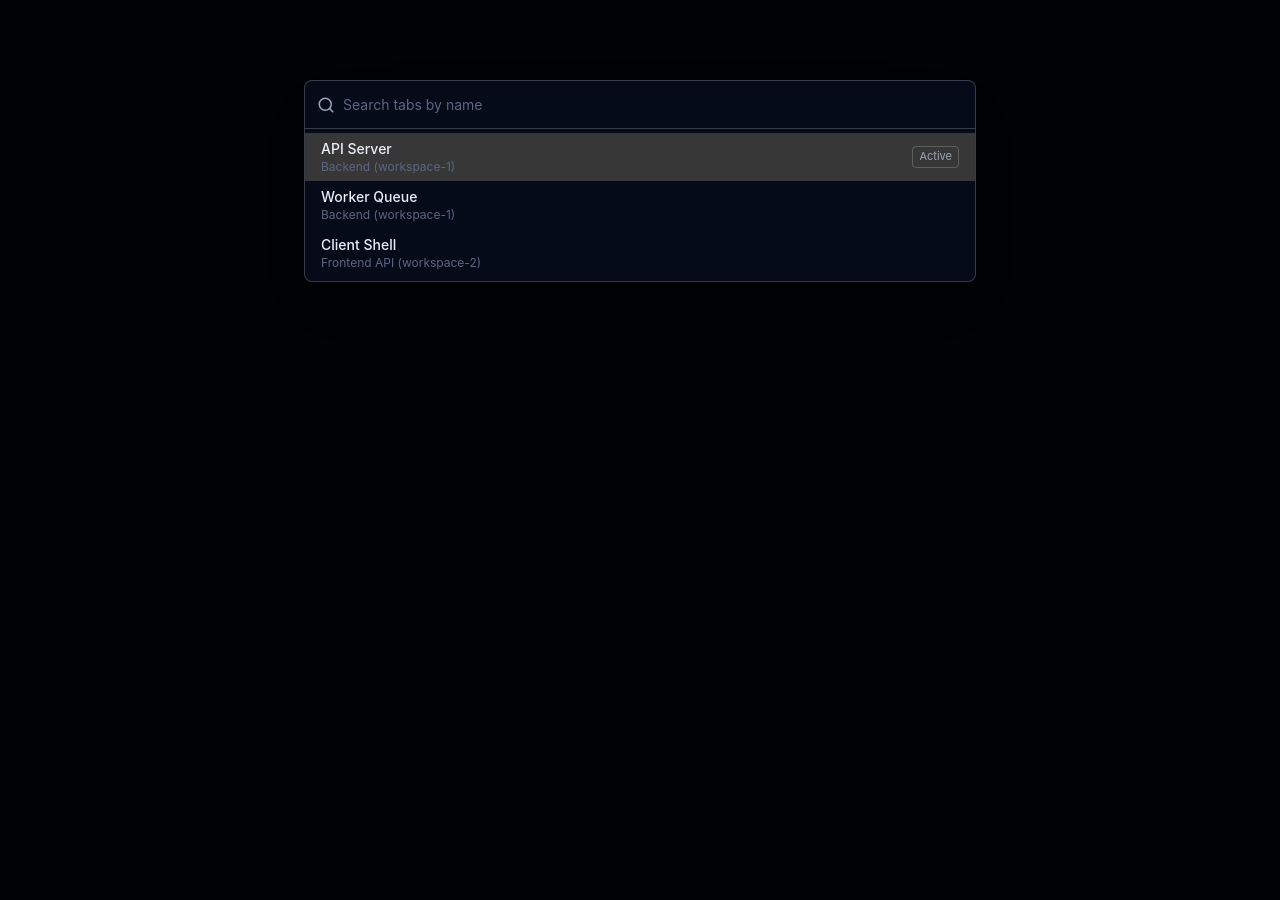
Test: TabSearchPalette › renders all workspace tabs and filters by tab name
The width and height of the screenshot is (1280, 900).
the user searches for a tab-name fragment.
Type "api" into the dropdown named "Search tabs by tab name".
click(653, 104); type("api")  # box [343,94,963,114]
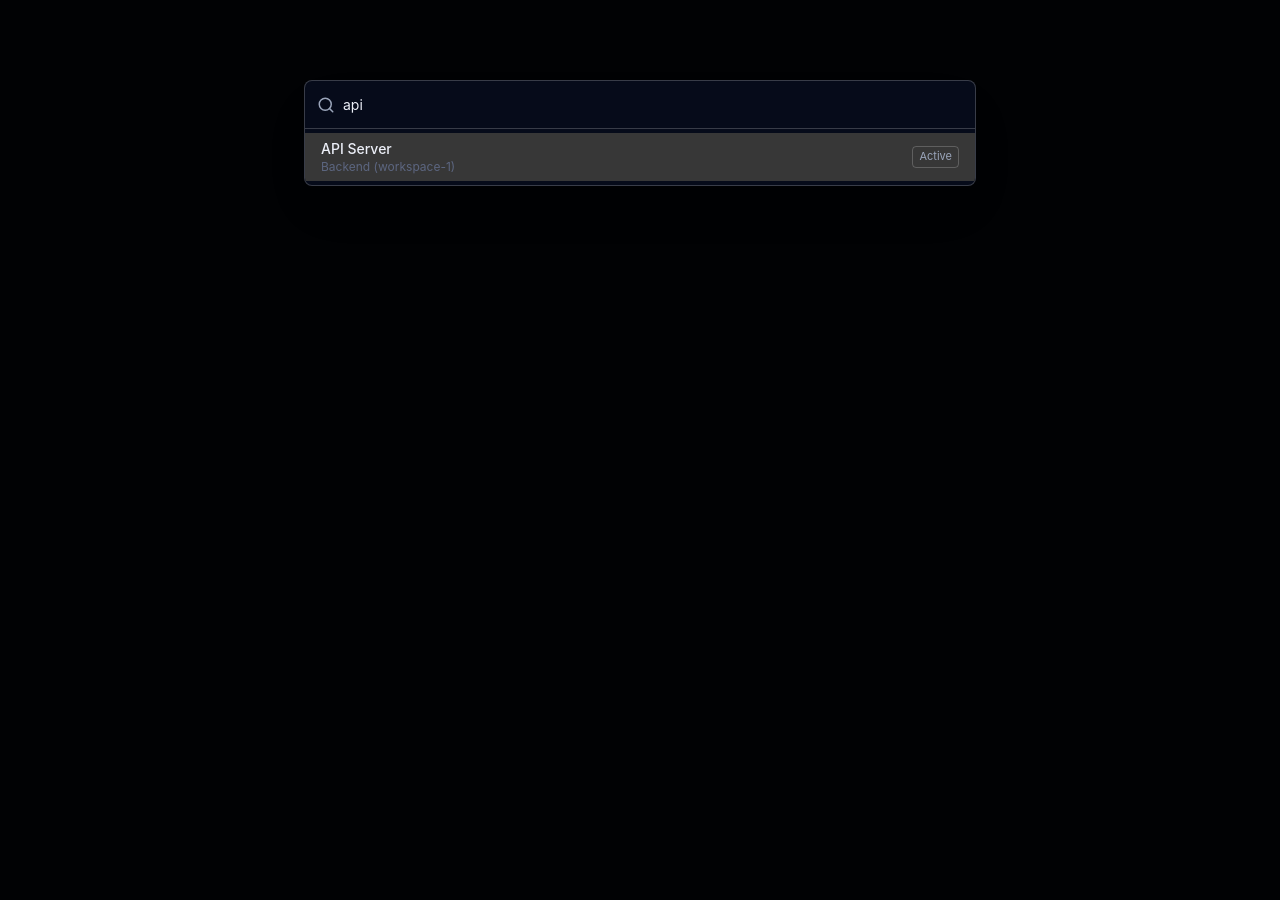
Check: the text "API Server" is shown, box [321,140,392,157]
Check: the option "Client Shell" is gone
Check: the option "Worker Queue" is gone
